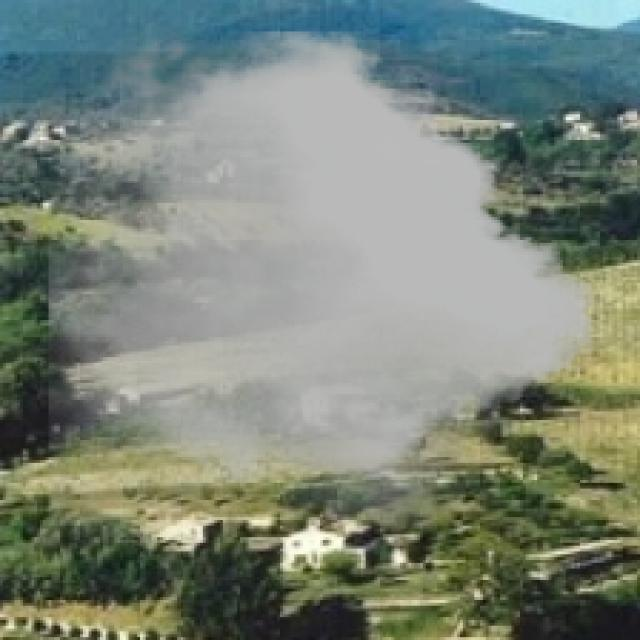smoke: (49, 23, 594, 543)
